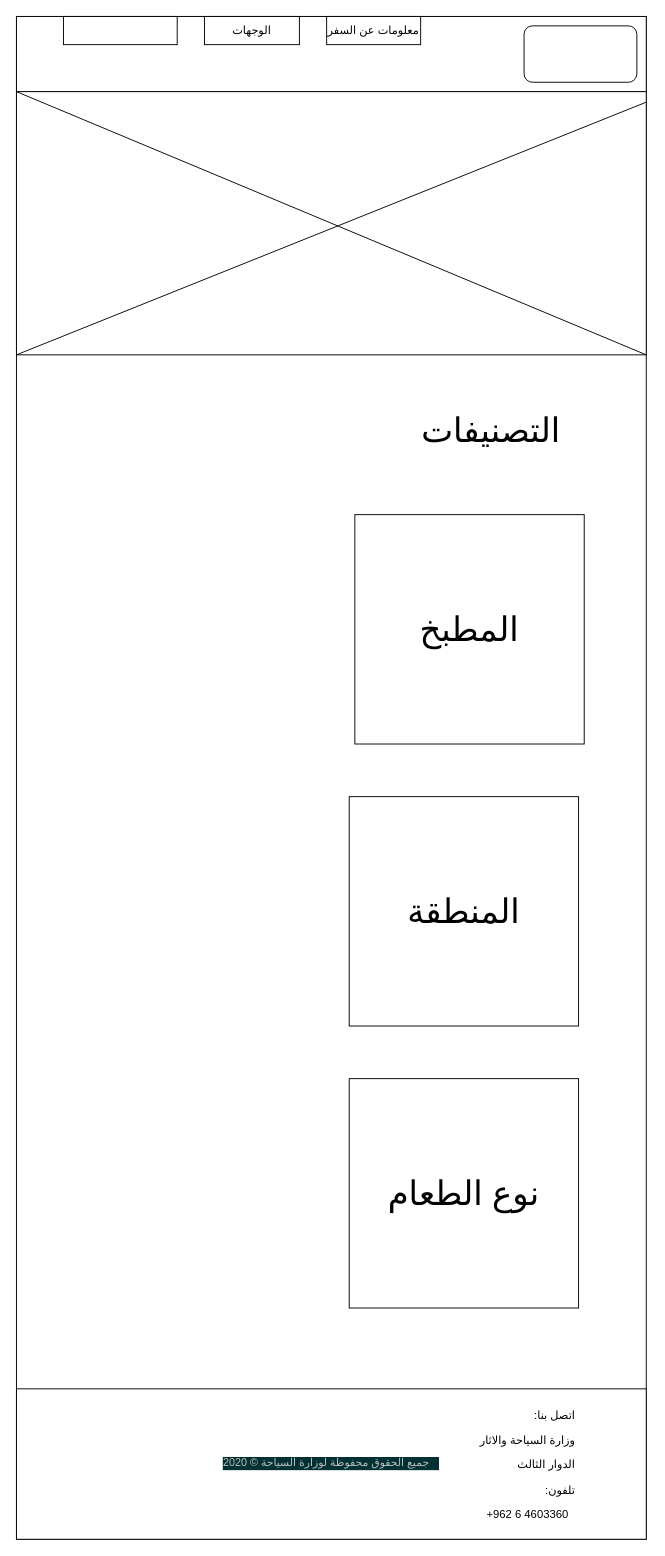
Image size: 665x1556. Some labels were removed from this diagram. Here are the shapes that lost their labels. From the top down, the centre of each, then its label:
At pixel 120 30: "الضفحة الرئيسية".
At pixel 580 53: "Logo وزارة السياحة والاثار".
At pixel 331 223: "أماكن الأكل الصفحة الرئيسية/اماكن الأكل".
